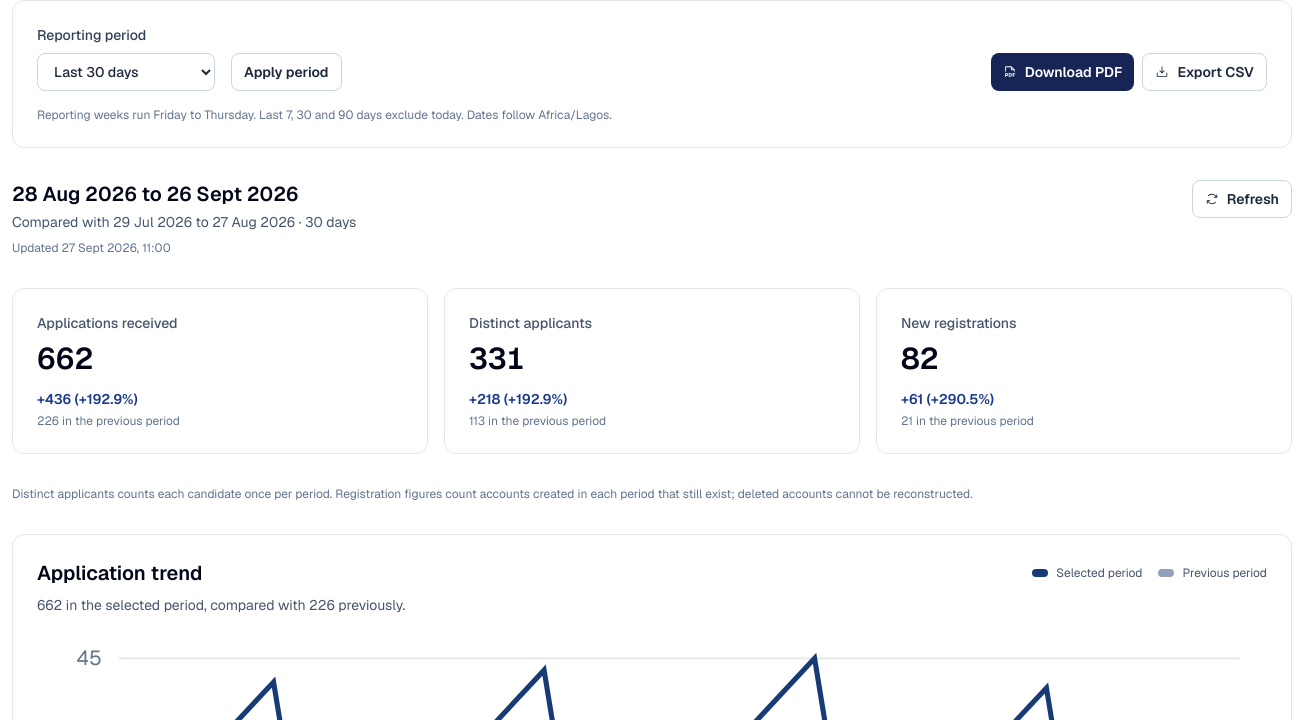
Test case: Super-admin recruitment reporting › keeps the report available after an export failure with a retryable error
The image size is (1304, 720).
Click the button "Download PDF": coordinates (1063, 72) [991,53,1134,91]
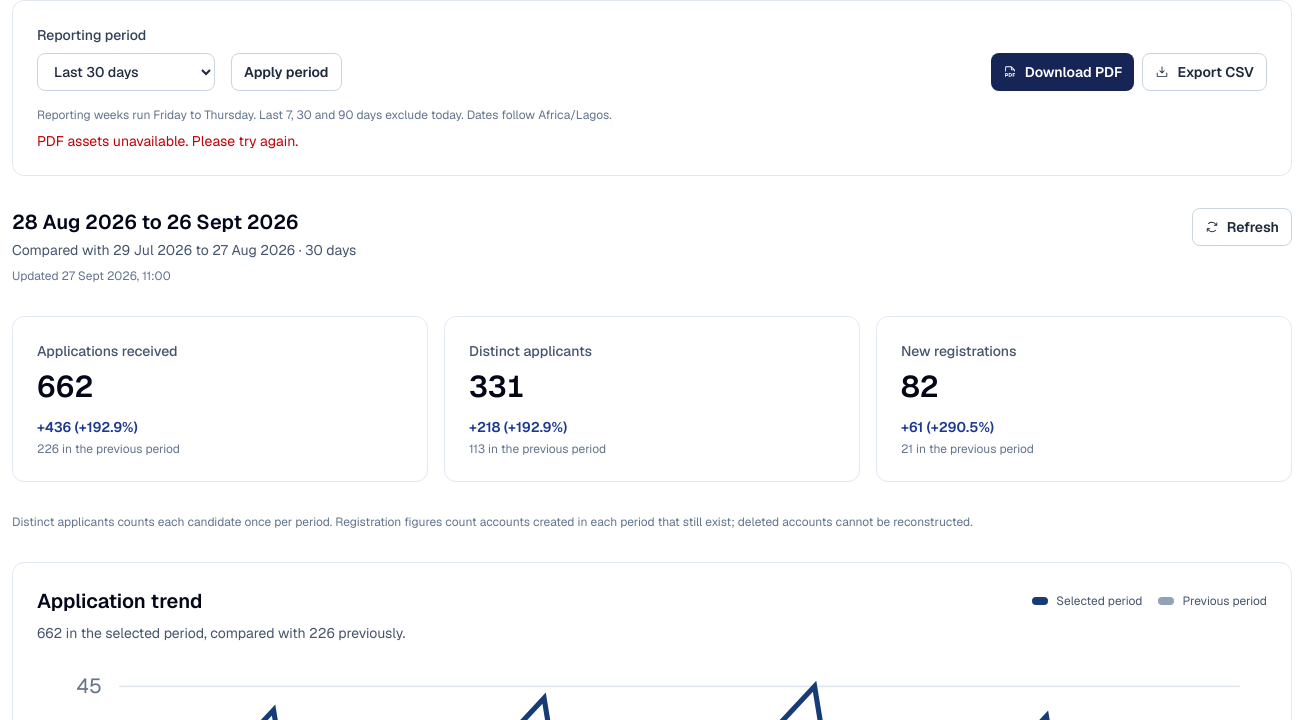
Expected: the heading "Application trend" is shown, [37,587,202,615]
Expected: the message shows "PDF assets unavailable", [37,132,298,150]
